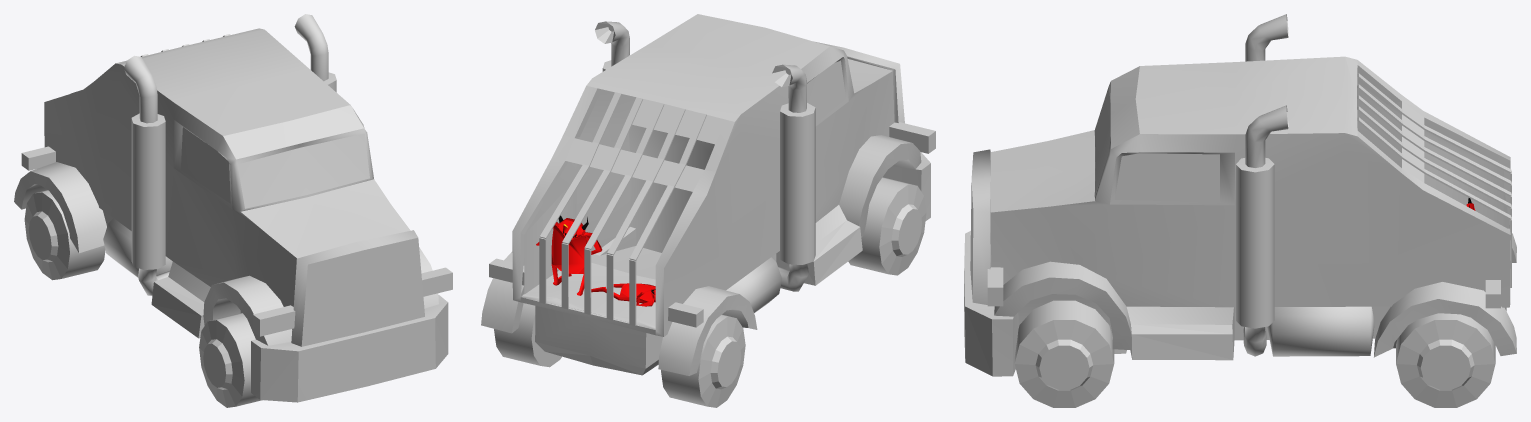
The model's file is bigtruck.FBX.
3 views of the same model, side by side, from view 1: azimuth 30°, elevation 25°; view 2: azimuth 150°, elevation 25°; view 3: azimuth 270°, elevation 25° (orthographic). The views are drawn at different scales.
Parts seen in each view (by area): view 1: truck; view 2: truck, Box002; view 3: truck.
Boxes of the visible parts, x1,y1,x2,y2 form: truck: (14, 14, 452, 407); truck: (481, 14, 935, 407); Box002: (536, 215, 655, 306); truck: (964, 14, 1516, 407).
Size of the model in its own units: 132 by 161 by 272.
